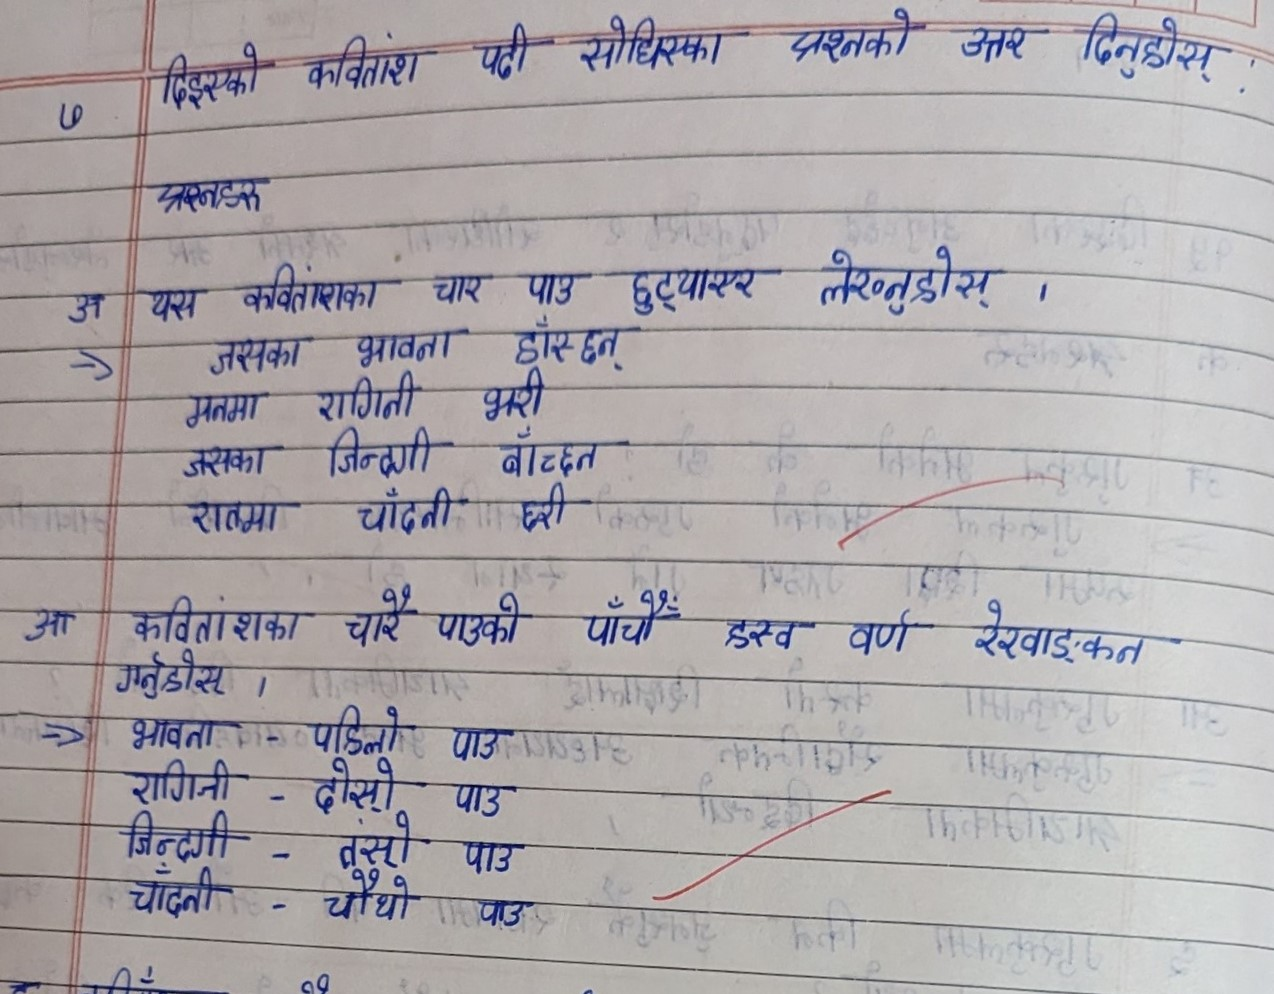text: (964, 598, 1204, 669), (810, 241, 1005, 324), (1067, 8, 1228, 97), (569, 7, 752, 78), (120, 591, 322, 646), (234, 258, 402, 318), (616, 258, 790, 315), (302, 29, 441, 101), (780, 4, 926, 72), (151, 44, 286, 118), (489, 425, 644, 484), (572, 584, 684, 660), (141, 173, 294, 222), (463, 16, 559, 94), (320, 425, 459, 476), (297, 694, 410, 755), (107, 646, 236, 699), (123, 757, 256, 808), (348, 484, 471, 539), (509, 313, 626, 370), (117, 809, 239, 861), (125, 861, 223, 925), (715, 602, 821, 661), (182, 487, 303, 539), (308, 756, 421, 811), (336, 577, 421, 650), (434, 592, 529, 656), (312, 368, 425, 422), (950, 16, 1050, 76), (317, 871, 429, 924), (347, 325, 475, 370), (122, 709, 245, 753), (844, 603, 930, 663), (203, 335, 314, 380), (473, 365, 553, 425), (512, 481, 598, 537), (334, 814, 421, 868), (41, 77, 111, 144), (180, 441, 290, 481), (448, 714, 530, 764), (446, 774, 530, 822), (183, 389, 273, 432), (510, 263, 596, 308), (12, 589, 81, 644), (133, 276, 214, 323), (429, 267, 498, 315), (456, 830, 526, 875), (464, 892, 542, 932), (58, 283, 112, 332)
